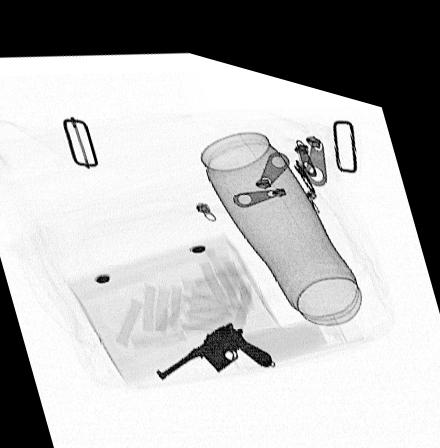Gun: (154, 309, 273, 372)
